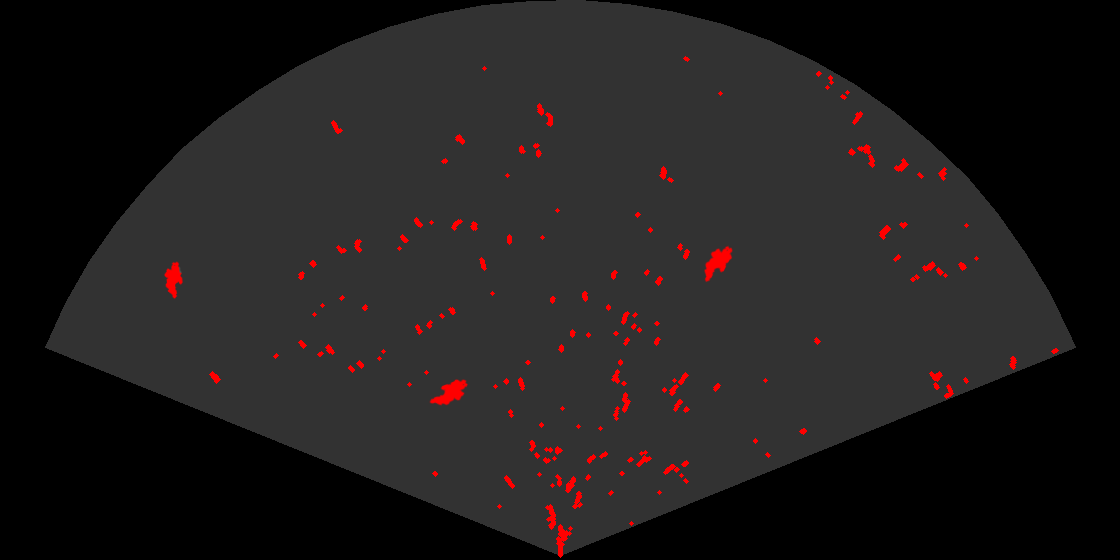AUV: (702, 244, 734, 284), (428, 378, 470, 407), (162, 260, 184, 301)
